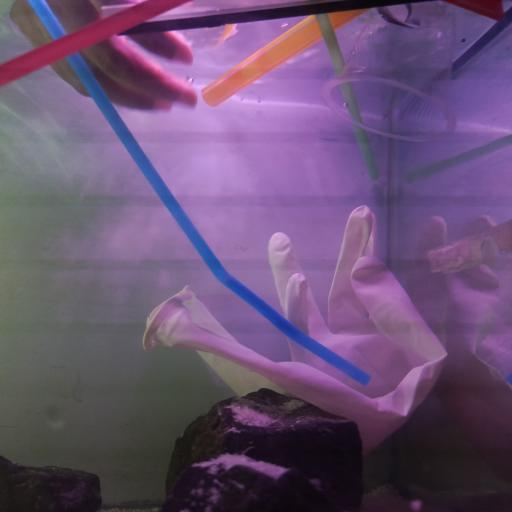glove: (141, 203, 449, 459)
plastic_cup: (320, 1, 456, 142)
plastic_straw: (27, 0, 371, 389), (201, 3, 372, 110), (0, 0, 186, 92), (314, 13, 380, 184), (115, 4, 400, 36)
